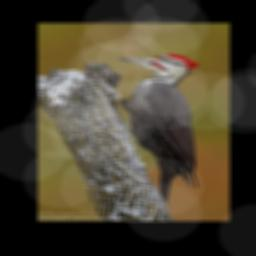Woodpecker: (100, 54, 200, 209)
